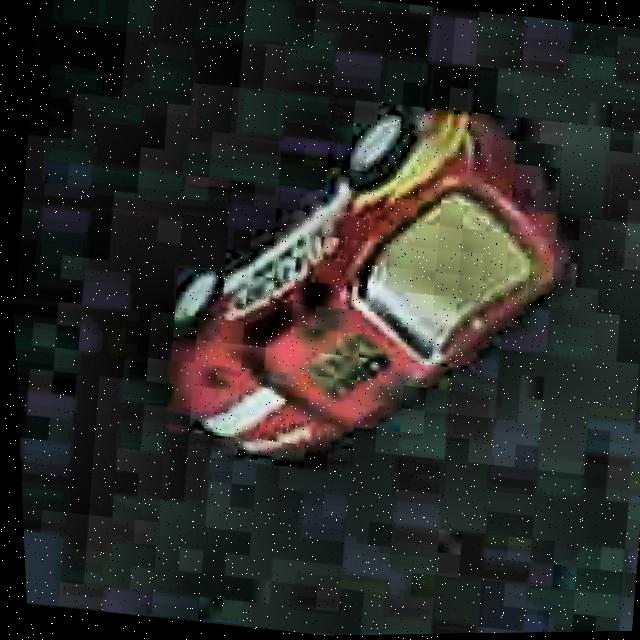car: (140, 69, 596, 496)
